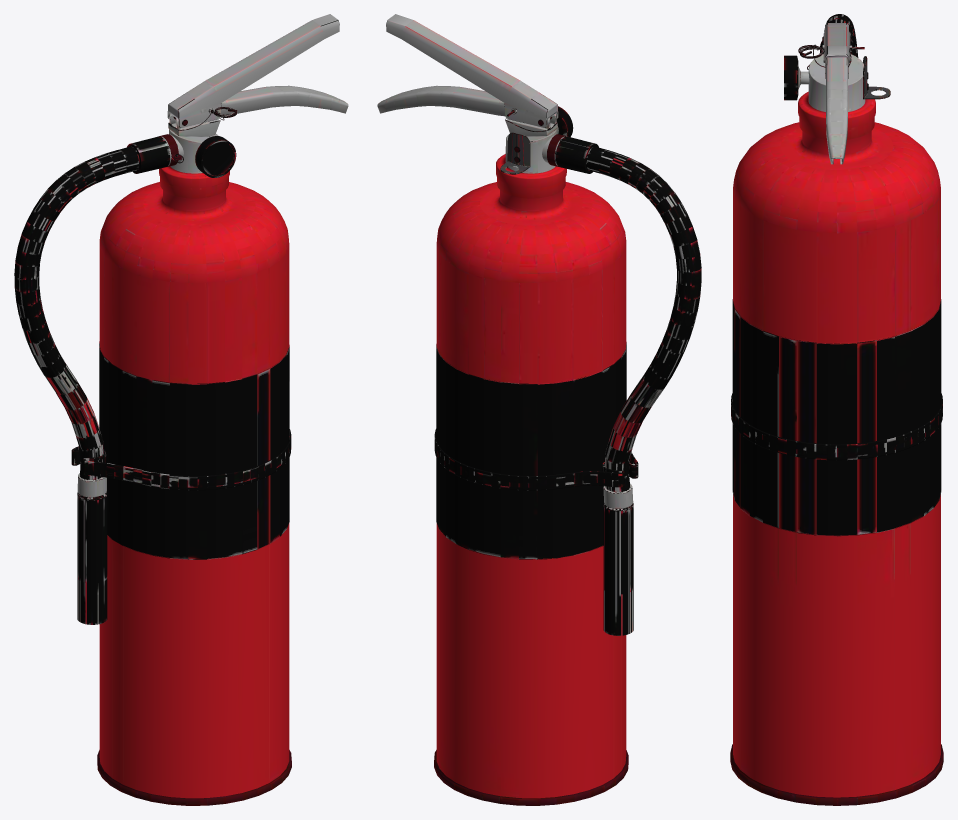
The model's file is extinguisher.glb.
3 renders of one model, left to right at view 1: azimuth 30°, elevation 25°; view 2: azimuth 150°, elevation 25°; view 3: azimuth 270°, elevation 25°, orthographic. The views are drawn at different scales.
Visible parts, largest first — view 1: FE; view 2: FE; view 3: FE.
Boxes of the visible parts, x1,y1,x2,y2 form: FE: [14, 14, 348, 805]; FE: [377, 14, 701, 805]; FE: [730, 14, 943, 805].
Bounding box in the file's own units: 0.3176 × 0.666 × 0.1649.
Materials: 1 (1 with a texture image).
